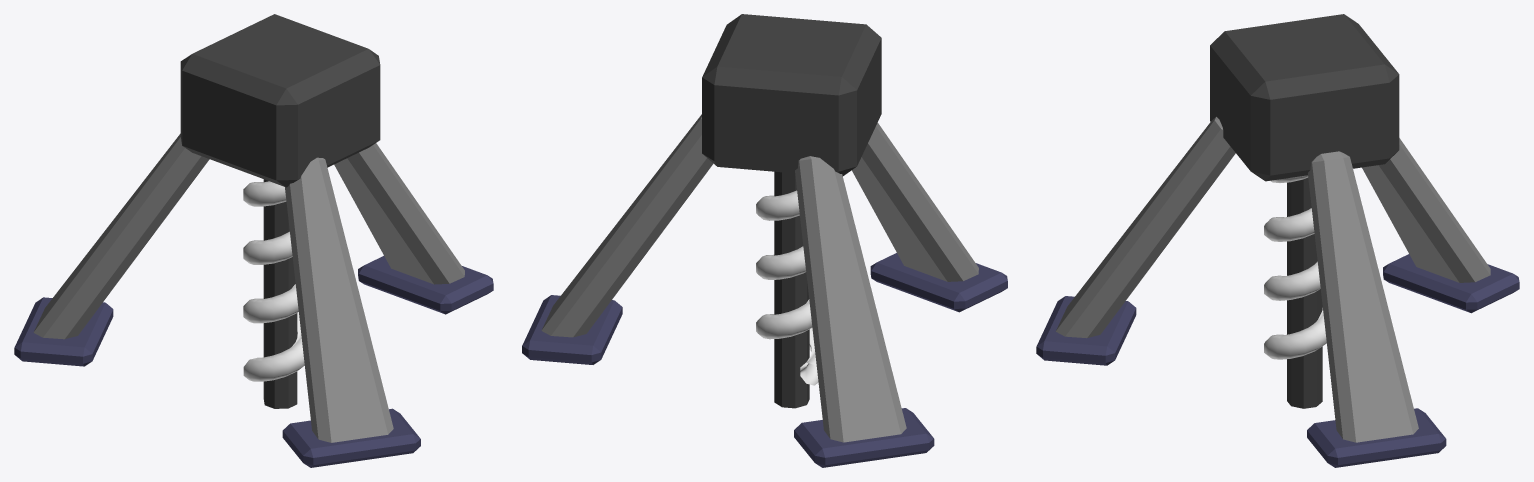
The model's file is miner.fbx.
3 renders of one model, left to right at view 1: azimuth 30°, elevation 25°; view 2: azimuth 150°, elevation 25°; view 3: azimuth 270°, elevation 25°, orthographic.
Visible parts, largest first — view 1: base, turret; view 2: base, turret; view 3: base, turret.
Boxes of the visible parts, x1=… form: base: x1=14, y1=14, x2=493, y2=467; turret: x1=243, y1=181, x2=304, y2=381; base: x1=522, y1=14, x2=1007, y2=467; turret: x1=756, y1=190, x2=818, y2=385; base: x1=1036, y1=14, x2=1519, y2=467; turret: x1=1264, y1=175, x2=1326, y2=359.
Bounding box in the file's own units: 103 × 80.74 × 99.99.
